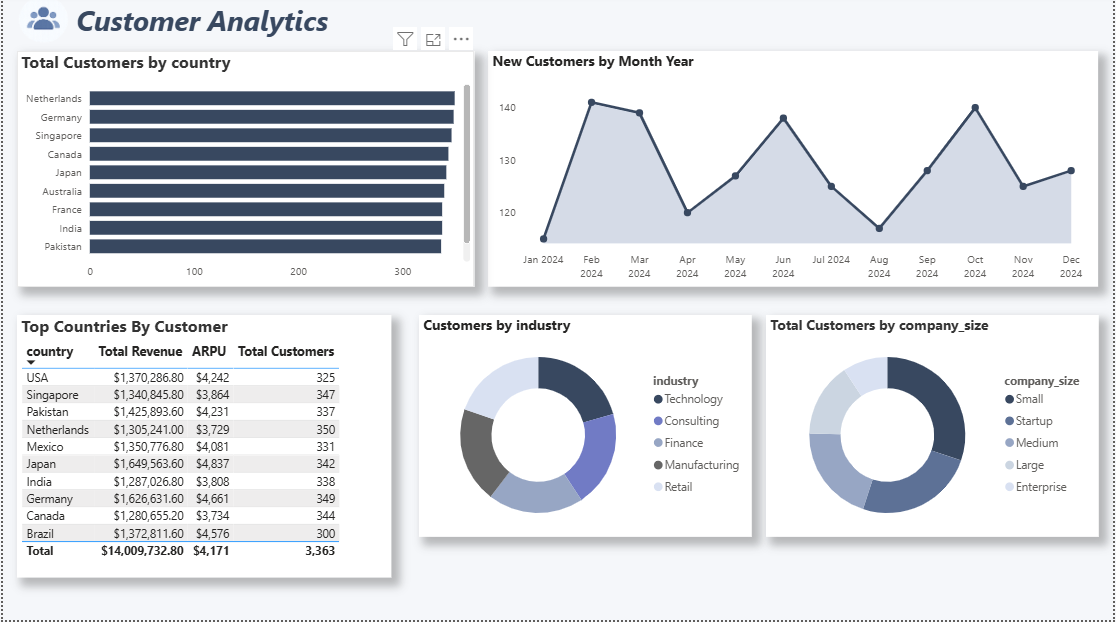

This screenshot's page, from the dashboard's own definition file:
{"tool":"powerbi","page":{"name":"Customer Analytics","canvas":[1280,720],"ordinal":1},"visuals":[{"type":"image","box":[0,0,96,64],"z":0},{"type":"textbox","box":[80,0,304,144],"z":1000},{"type":"donutChart","title":" Customers by industry","fields":{"Category":["dim_customer.industry"],"Y":["dim_customer.Total Customers"]},"box":[480,368,384,256],"z":2000},{"type":"donutChart","fields":{"Category":["dim_customer.company_size"],"Y":["dim_customer.Total Customers"]},"box":[880,368,384,256],"z":3000},{"type":"areaChart","fields":{"Category":["dim_date.Month Year"],"Y":[" subscriptions.New Customers"]},"box":[560,64,704,272],"z":4000},{"type":"tableEx","title":"Top Countries By Customer","fields":{"Values":["dim_customer.country","dim_customer.Total Revenue","dim_customer.ARPU","dim_customer.Total Customers"]},"box":[16.2,368.1,431.5,303.5],"z":5000},{"type":"clusteredBarChart","fields":{"Category":["dim_customer.country"],"Y":["dim_customer.Total Customers"]},"box":[16,64,528,272],"z":6000}]}

Visuals, with their boxes in screenshot pixels (x1, y1, x2, y2), scaled from the page's 1280x720 canvas onto the 1116x622 screenshot:
image: l=0, t=0, r=84, b=55
textbox: l=70, t=0, r=335, b=124
" Customers by industry" donutChart: l=418, t=318, r=753, b=539
donutChart - dim_customer.company_size x dim_customer.Total Customers: l=767, t=318, r=1102, b=539
areaChart - dim_date.Month Year x  subscriptions.New Customers: l=488, t=55, r=1102, b=290
"Top Countries By Customer" tableEx: l=14, t=318, r=390, b=580
clusteredBarChart - dim_customer.country x dim_customer.Total Customers: l=14, t=55, r=474, b=290
